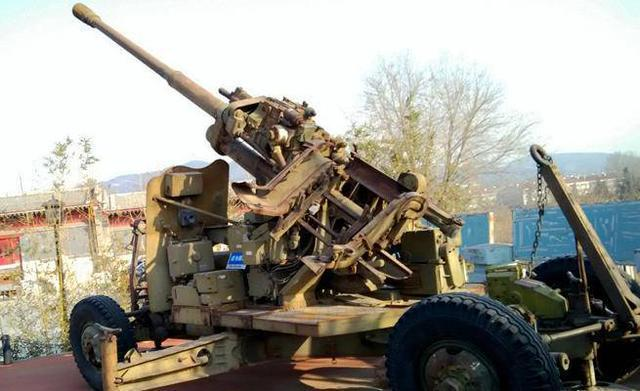MIL_SPG: (69, 5, 602, 390)
